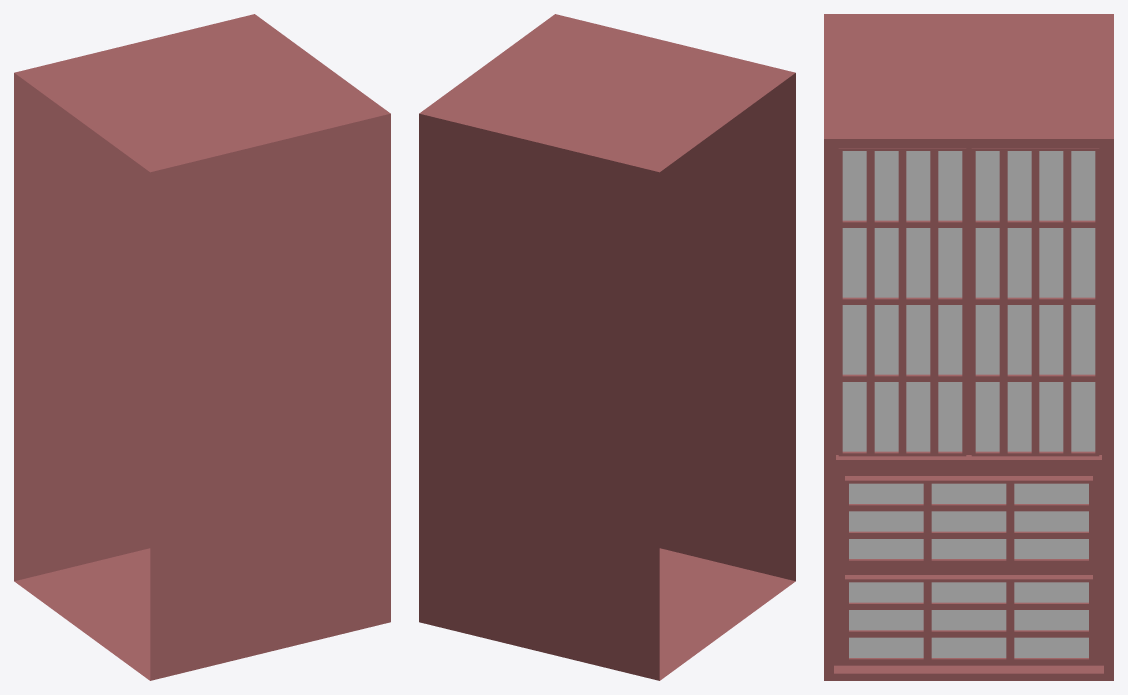
The model's file is locker.fbx.
3 views of the same model, side by side, from view 1: azimuth 30°, elevation 25°; view 2: azimuth 150°, elevation 25°; view 3: azimuth 270°, elevation 25° (orthographic). The views are drawn at different scales.
Visible parts, largest first — view 1: Куб.041; view 2: Куб.041; view 3: Куб.041.
Part boxes in pixels (x1=…): Куб.041: x1=14, y1=14, x2=390, y2=680; Куб.041: x1=419, y1=14, x2=795, y2=680; Куб.041: x1=824, y1=14, x2=1113, y2=680.
Size of the model in its own units: 138 by 279 by 135.
